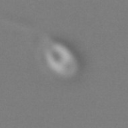normal: (1, 12, 49, 44)
